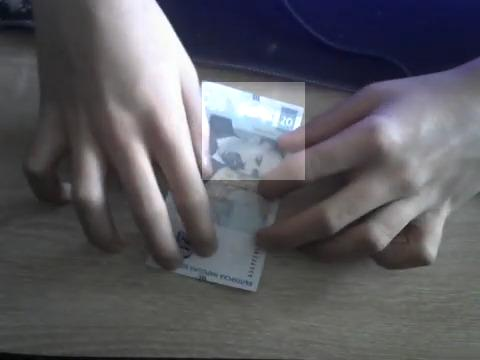20leva: (202, 82, 305, 180)
